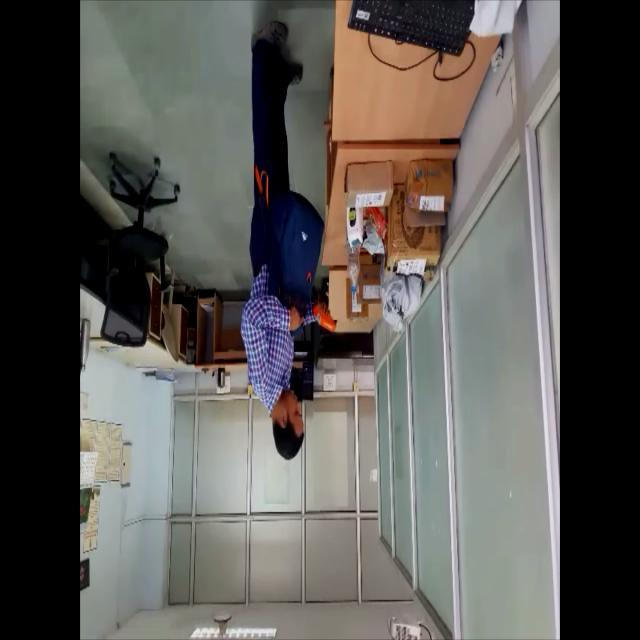shoplifting: (237, 0, 339, 478)
